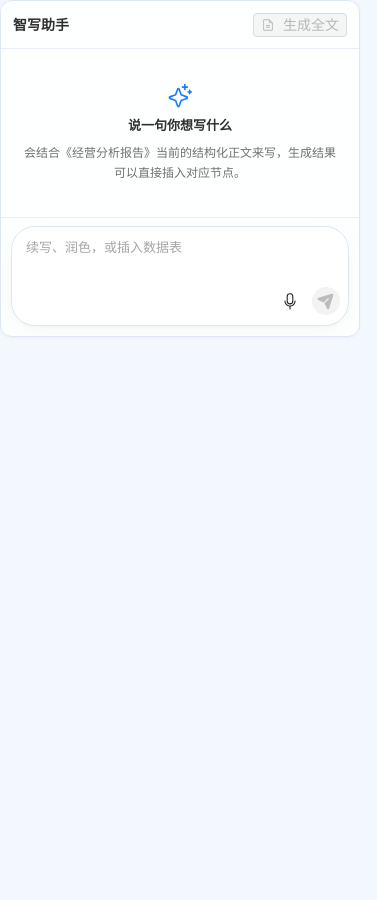
Scenario: WritingChatPanel › 无锚点但覆盖现有章节的完整回答也必须替换，不能追加
Type "根据当前内容详细写一下" into the text box at (180,255), box [12, 227, 348, 283]
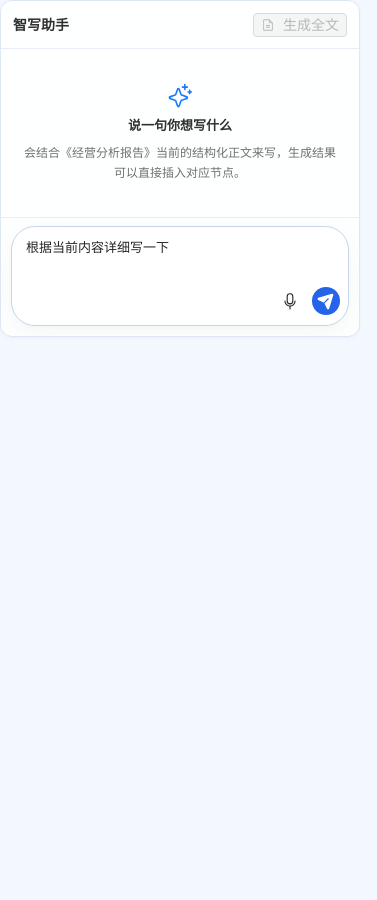
Press Enter
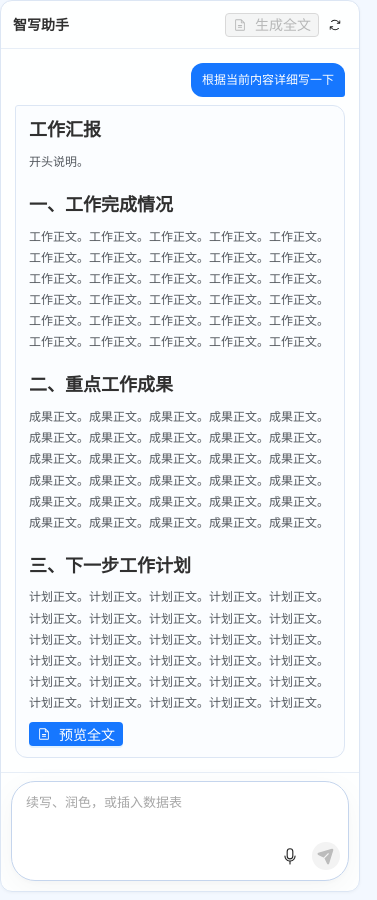
Expected: the button "预览全文" is shown, [29, 722, 123, 746]
